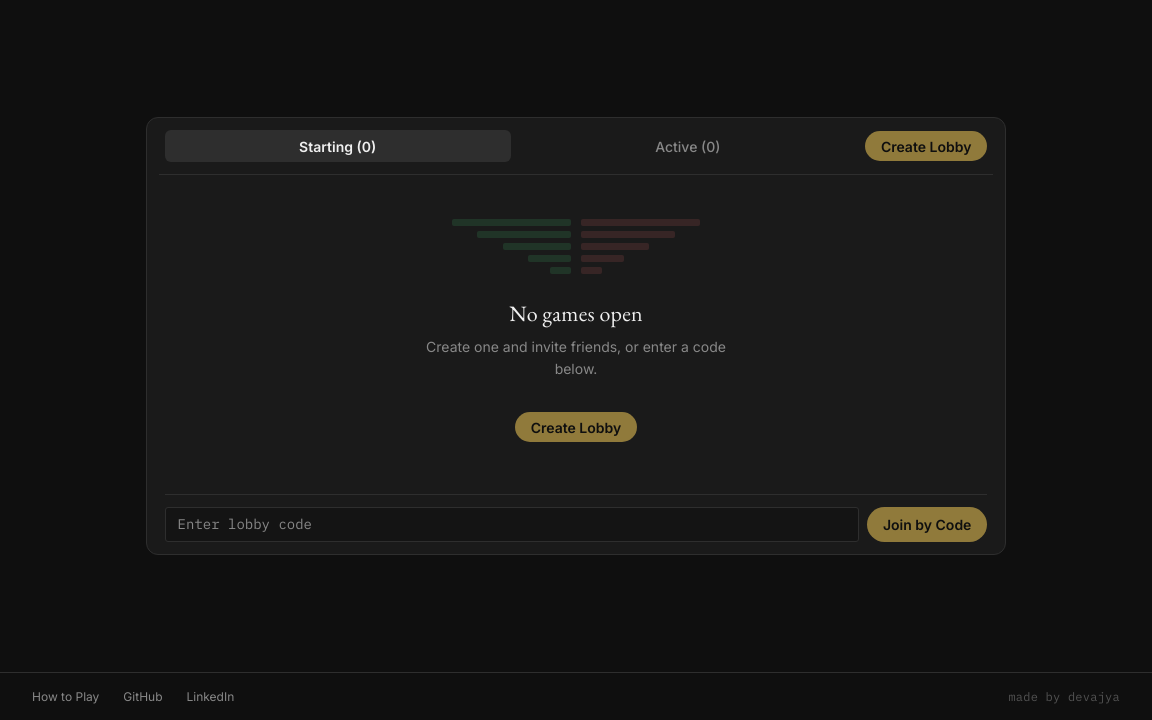
Test: LobbyBrowser — join by code › shows error when code not in list
The width and height of the screenshot is (1152, 720).
Expected: the text "No games open" is shown, top-left (509, 298), bottom-right (643, 328)
Type "XXXXXX" into the field labelled "lobby code".
click(512, 524); type("XXXXXX")  # box top-left (165, 507), bottom-right (859, 542)
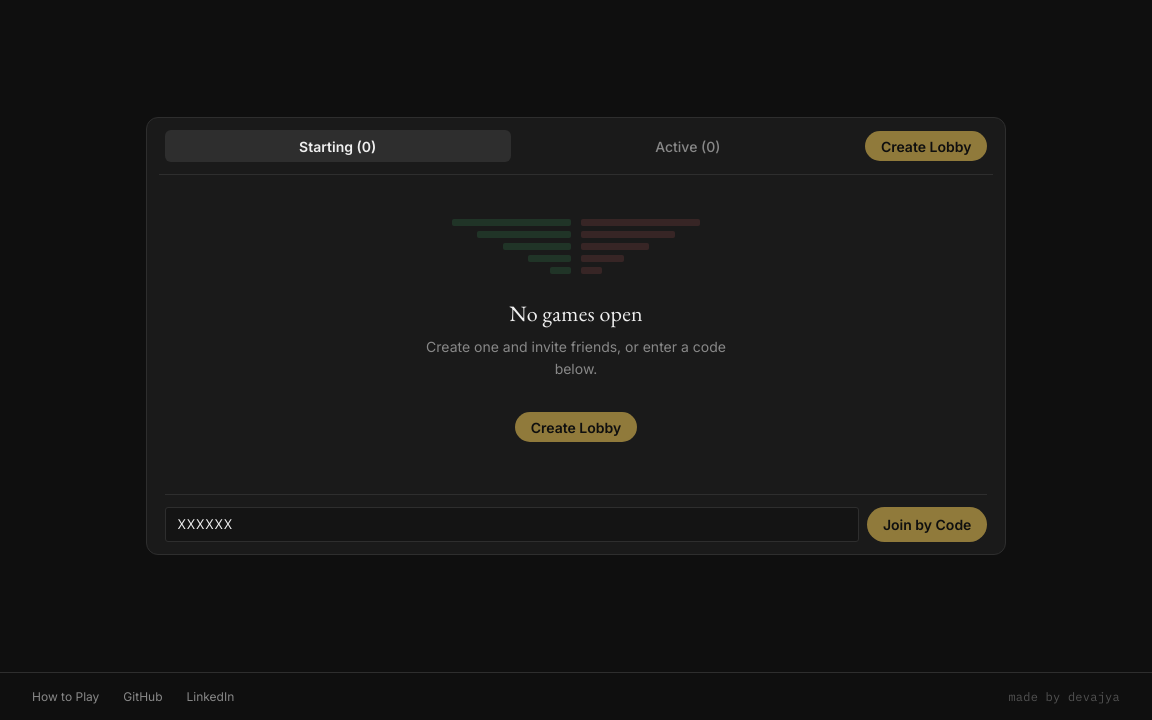
Click the button "Join by Code".
click(927, 524)  # box top-left (867, 507), bottom-right (987, 542)
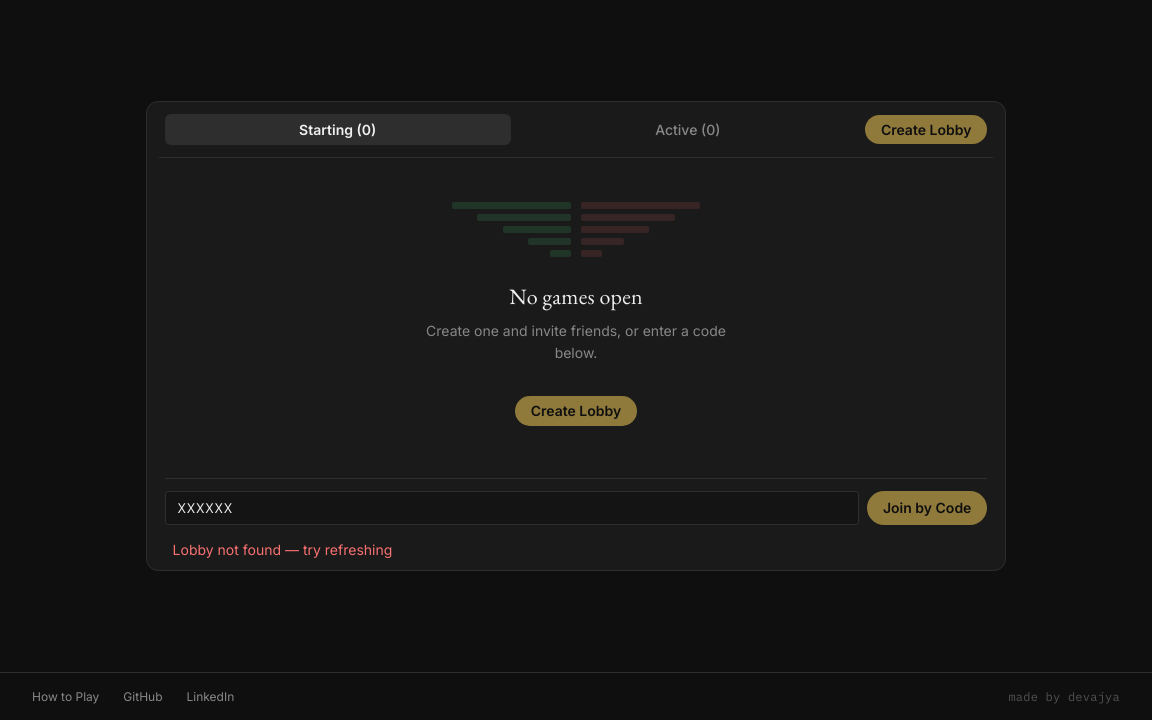
Expected: the message shows "Lobby not found", top-left (173, 541), bottom-right (392, 558)
